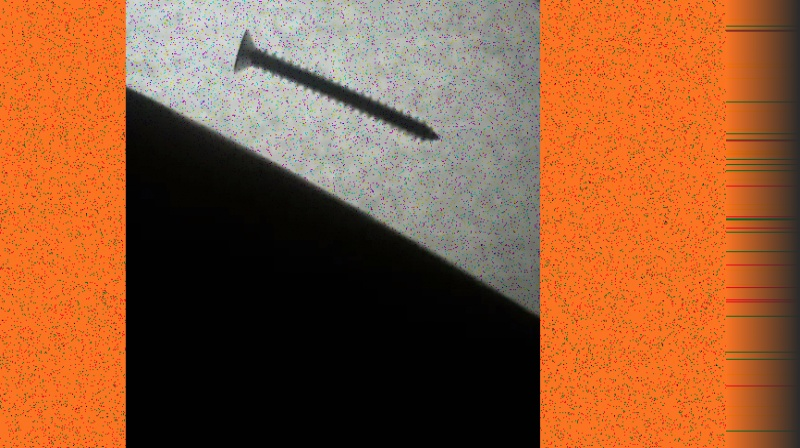S002: (228, 24, 441, 143)
